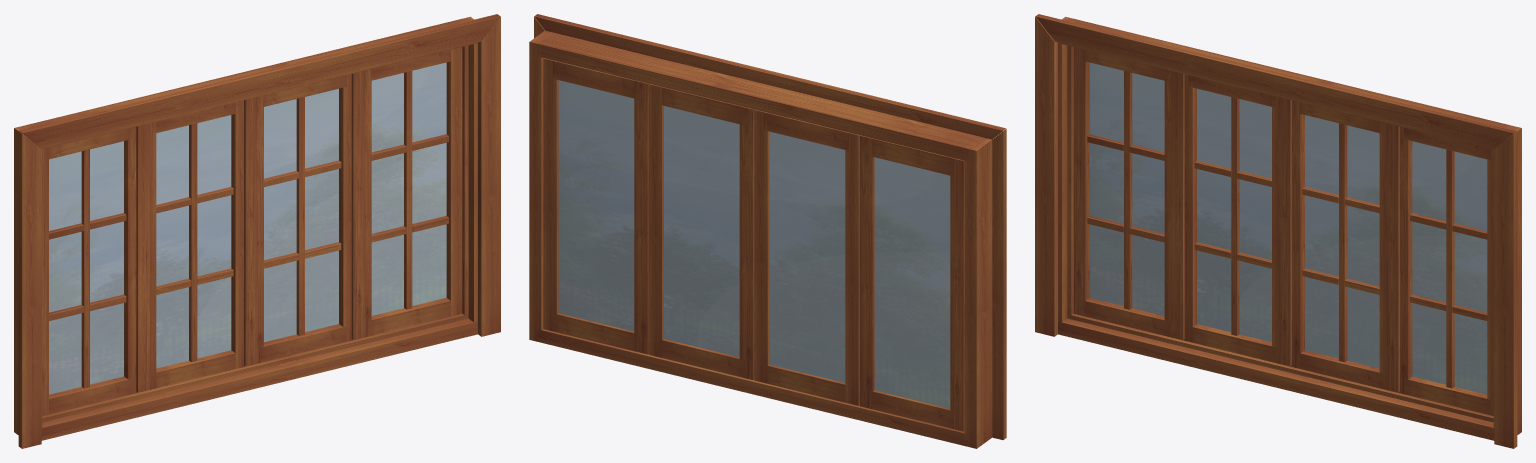
3 renders of one model, left to right at view 1: azimuth 30°, elevation 25°; view 2: azimuth 150°, elevation 25°; view 3: azimuth 330°, elevation 25°, orthographic. The views are drawn at different scales.
Visible parts, largest first — view 1: glass, trim_top, box_bottom, trim_left, trim_right, window_right003, astragal003, astragal002, astragal001, window_right001, window_right, window_right002 (+21 smaller); view 2: glass, box_top, box_left, trim_top, box_bottom, trim_left, box_right, window_right, window_right002, window_right001, window_left002, window_right003 (+11 smaller); view 3: glass, trim_top, box_bottom, trim_right, trim_left, window_left, astragal002, astragal003, astragal001, window_left002, window_left001, window_left003 (+21 smaller).
Part boxes in pixels (<box>): glass: <box>49,62,446,394</box>; trim_top: <box>19,14,500,148</box>; box_bottom: <box>41,318,477,440</box>; trim_left: <box>18,131,41,448</box>; trim_right: <box>478,16,500,336</box>; window_right003: <box>446,47,462,316</box>; astragal003: <box>351,71,365,339</box>; astragal002: <box>244,97,257,366</box>; astragal001: <box>136,123,149,392</box>; window_right001: <box>231,100,248,368</box>; window_right: <box>124,126,141,394</box>; window_right002: <box>339,74,356,341</box>; glass: <box>558,80,950,408</box>; box_top: <box>537,32,983,161</box>; box_left: <box>964,136,992,448</box>; trim_top: <box>534,14,1005,139</box>; box_bottom: <box>537,329,968,446</box>; trim_left: <box>992,129,1006,439</box>; box_right: <box>529,30,552,342</box>; window_right: <box>859,135,874,409</box>; window_right002: <box>648,84,663,357</box>; window_right001: <box>754,109,769,383</box>; window_left002: <box>739,106,754,379</box>; window_right003: <box>543,58,558,332</box>; glass: <box>1089,62,1487,394</box>; trim_top: <box>1035,14,1516,148</box>; box_bottom: <box>1058,318,1494,440</box>; trim_right: <box>1494,131,1517,448</box>; trim_left: <box>1035,16,1057,336</box>; window_left: <box>1073,47,1089,316</box>; astragal002: <box>1278,97,1291,366</box>; astragal003: <box>1386,123,1399,392</box>; astragal001: <box>1171,71,1184,339</box>; window_left002: <box>1287,100,1304,368</box>; window_left001: <box>1179,74,1196,342</box>; window_left003: <box>1395,126,1412,394</box>.
Bounding box in the file's own units: 61 × 38.44 × 4.25.
Materials: 7 (7 with a texture image).
